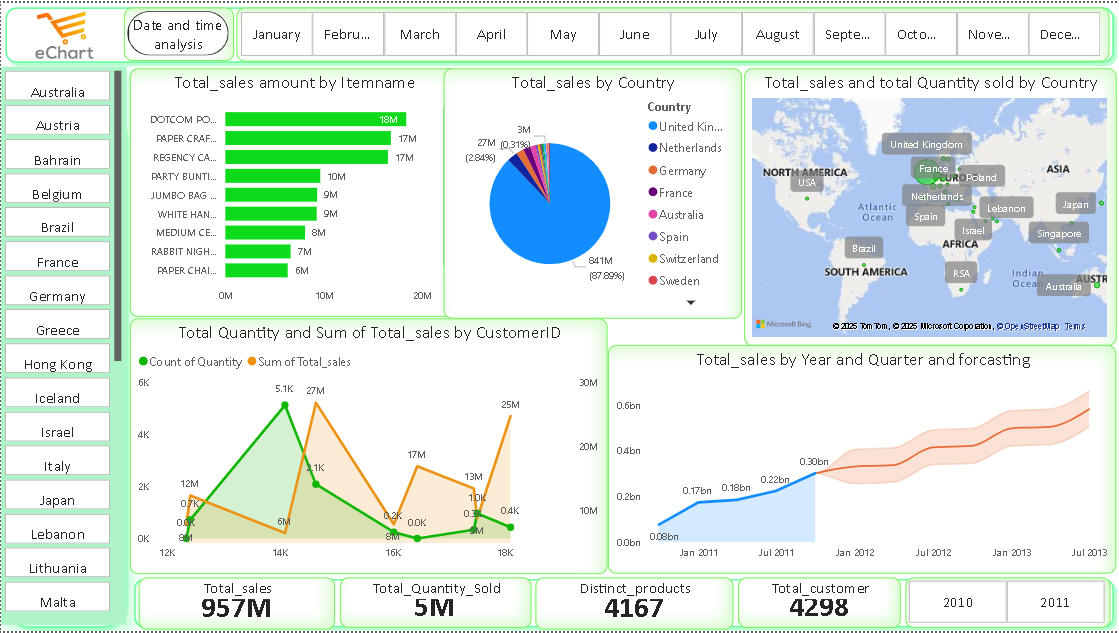

The page's visual inventory and layout, read from the dashboard file:
{"tool":"powerbi","page":{"name":"Dashboard","canvas":[1280,720],"ordinal":0},"visuals":[{"type":"shape","box":[147.6,654.4,1132.1,66],"z":0},{"type":"shape","box":[0,0,1279.7,73.8],"z":1000},{"type":"shape","box":[0,118.5,147.6,602],"z":2000},{"type":"advancedSlicerVisual","fields":{"Values":["Assignment-1_Data.Date.Variation.Date Hierarchy.Year"]},"box":[1035,658.3,235,58.2],"z":3000},{"type":"advancedSlicerVisual","fields":{"Values":["Assignment-1_Data.Date.Variation.Date Hierarchy.Month"]},"box":[269.9,5.8,1000.1,62.1],"z":4000},{"type":"advancedSlicerVisual","fields":{"Values":["Assignment-1_Data.Country"]},"box":[0,72.8,143.6,638.9],"z":5000},{"type":"card","title":"Total_sales","fields":{"Values":["Sum(Assignment-1_Data.Total_sales)"]},"box":[157.3,658.3,225.3,60.2],"z":6000},{"type":"card","title":"Total_Quantity_Sold","fields":{"Values":["Sum(Assignment-1_Data.Quantity)"]},"box":[388.4,658.3,219.4,58.2],"z":7000},{"type":"card","title":"Distinct_products","fields":{"Values":["Count(Assignment-1_Data.Itemname)"]},"box":[611.7,658.3,227.2,60.2],"z":8000},{"type":"card","title":"Total_customer","fields":{"Values":["Count(Assignment-1_Data.CustomerID)"]},"box":[844.7,658.3,186.4,58.2],"z":9000},{"type":"map","title":"Total_sales and total Quantity sold by Country","fields":{"Category":["Assignment-1_Data.Country"],"Size":["Sum(Assignment-1_Data.Total_sales)"]},"box":[850.6,73.8,427.2,318.5],"z":10000},{"type":"clusteredBarChart","title":"Total_sales amount by Itemname","fields":{"Category":["Assignment-1_Data.Itemname"],"Y":["Sum(Assignment-1_Data.Total_sales)"]},"box":[147.8,74.9,376.7,285.1],"z":11000},{"type":"lineChart","title":"Total Quantity and Sum of Total_sales by CustomerID","fields":{"Category":["Assignment-1_Data.CustomerID"],"Y2":["Sum(Assignment-1_Data.Total_sales)"],"Y":["CountNonNull(Assignment-1_Data.Quantity)"]},"box":[147.6,361.2,547.6,293.2],"z":12000},{"type":"lineChart","title":"Total_sales by Year and Quarter and forcasting","fields":{"Y":["Sum(Assignment-1_Data.Total_sales)"],"Category":["Assignment-1_Data.Date.Variation.Date Hierarchy.Year","Assignment-1_Data.Date.Variation.Date Hierarchy.Quarter"]},"box":[695.2,392.3,582.6,262.2],"z":13000},{"type":"pieChart","title":"Total_sales by Country","fields":{"Category":["Assignment-1_Data.Country"],"Y":["Sum(Assignment-1_Data.Total_sales)"]},"box":[506.8,73.8,341.8,287.4],"z":14000},{"type":"image","box":[0,1.9,141.8,75.7],"z":15000},{"type":"pageNavigator","box":[140,5,126.7,61.7],"z":16000}]}

Visuals, with their boxes in screenshot pixels (x1, y1, x2, y2), scaled from the page's 1280x720 canvas onto the 1119x633 screenshot:
shape: region(129, 575, 1118, 632)
shape: region(0, 0, 1118, 65)
shape: region(0, 104, 129, 632)
advancedSlicerVisual - Assignment-1_Data.Date.Variation.Date Hierarchy.Year: region(905, 579, 1110, 630)
advancedSlicerVisual - Assignment-1_Data.Date.Variation.Date Hierarchy.Month: region(236, 5, 1110, 60)
advancedSlicerVisual - Assignment-1_Data.Country: region(0, 64, 126, 626)
"Total_sales" card: region(138, 579, 334, 632)
"Total_Quantity_Sold" card: region(340, 579, 531, 630)
"Distinct_products" card: region(535, 579, 733, 632)
"Total_customer" card: region(738, 579, 901, 630)
"Total_sales and total Quantity sold by Country" map: region(744, 65, 1117, 345)
"Total_sales amount by Itemname" clusteredBarChart: region(129, 66, 459, 316)
"Total Quantity and Sum of Total_sales by CustomerID" lineChart: region(129, 318, 608, 575)
"Total_sales by Year and Quarter and forcasting" lineChart: region(608, 345, 1117, 575)
"Total_sales by Country" pieChart: region(443, 65, 742, 318)
image: region(0, 2, 124, 68)
pageNavigator: region(122, 4, 233, 59)
